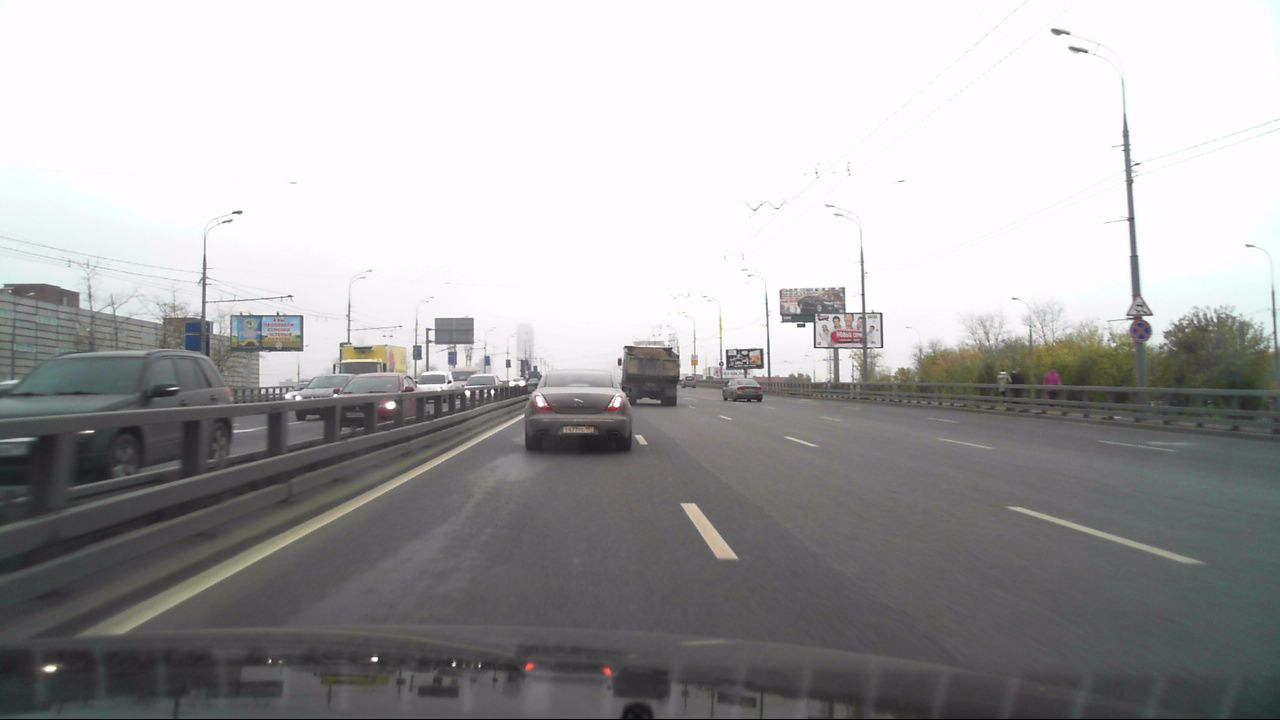No Parking: (1129, 318, 1152, 341)
